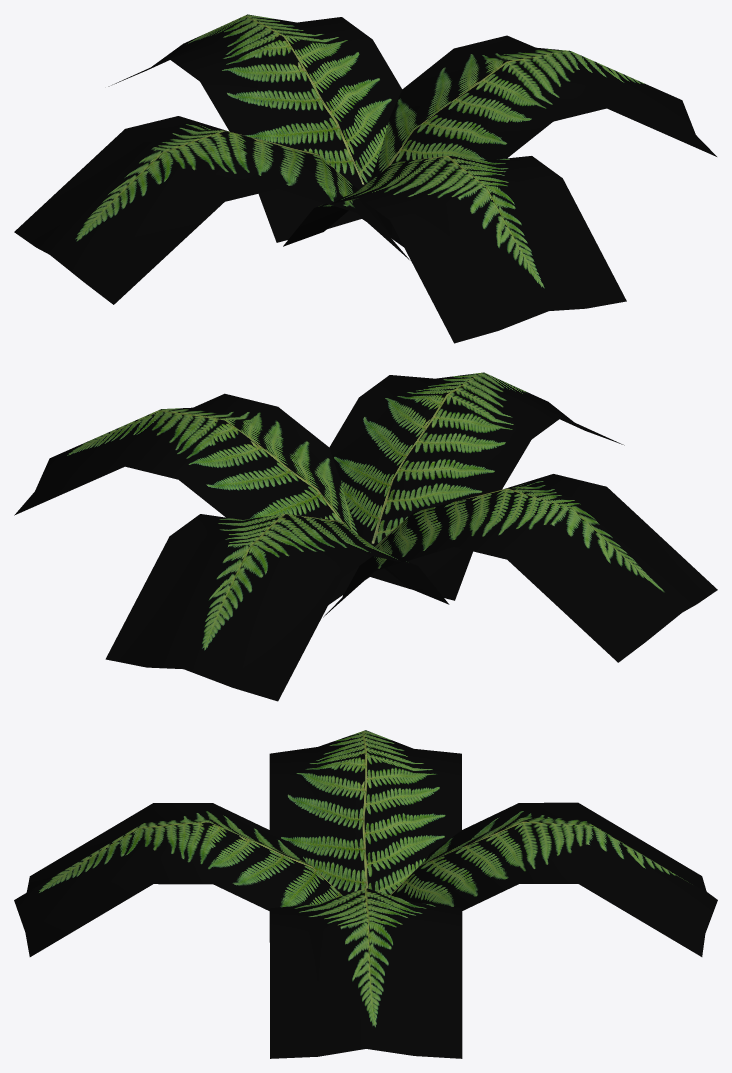
File: fern.fbx
3 views of the same model, one above another, from view 1: azimuth 30°, elevation 25°; view 2: azimuth 150°, elevation 25°; view 3: azimuth 270°, elevation 25° (orthographic). The views are drawn at different scales.
Visible parts, largest first — view 1: Plane; view 2: Plane; view 3: Plane.
Part boxes in pixels (x1,y1,x2,y2): Plane: [14, 14, 716, 343]; Plane: [14, 372, 717, 701]; Plane: [14, 730, 717, 1058].
Size of the model in its own units: 733 by 141 by 733.
